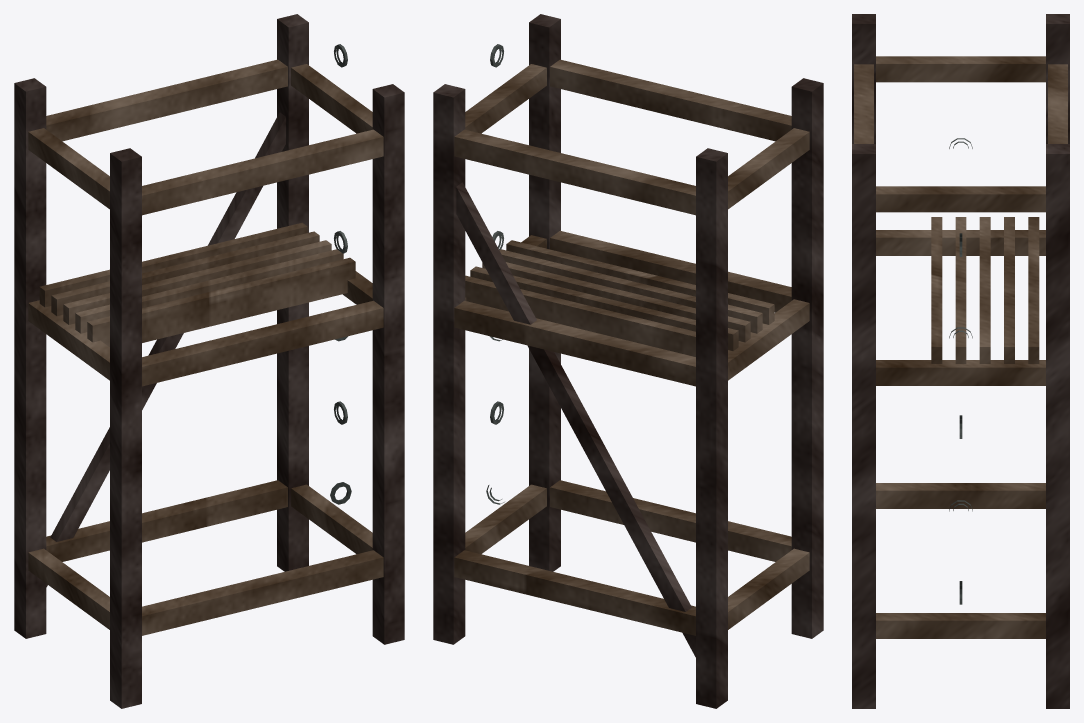
Rendered from 0443_scaffolding_18.glb.
The picture shows the model from 3 angles, left to right: view 1: azimuth 30°, elevation 25°; view 2: azimuth 150°, elevation 25°; view 3: azimuth 270°, elevation 25°; orthographic projection.
Parts seen in each view (by area): view 1: wood_dark, wood, iron; view 2: wood_dark, wood, iron; view 3: wood, wood_dark, iron.
Boxes of the visible parts, bbox=[...] form: wood_dark: bbox=[14, 14, 404, 708]; wood: bbox=[28, 59, 383, 635]; iron: bbox=[330, 44, 351, 504]; wood_dark: bbox=[433, 14, 823, 708]; wood: bbox=[454, 59, 809, 635]; iron: bbox=[486, 44, 504, 504]; wood: bbox=[854, 56, 1067, 638]; wood_dark: bbox=[852, 14, 1069, 708]; iron: bbox=[949, 138, 972, 604].
Size of the model in its own units: 1.81 by 3.4 by 1.19.
Materials: 3 (3 with a texture image).
